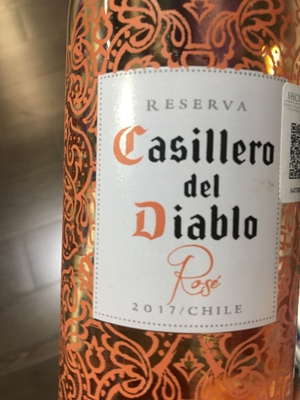casillero del diablo rose: (51, 1, 298, 399)
